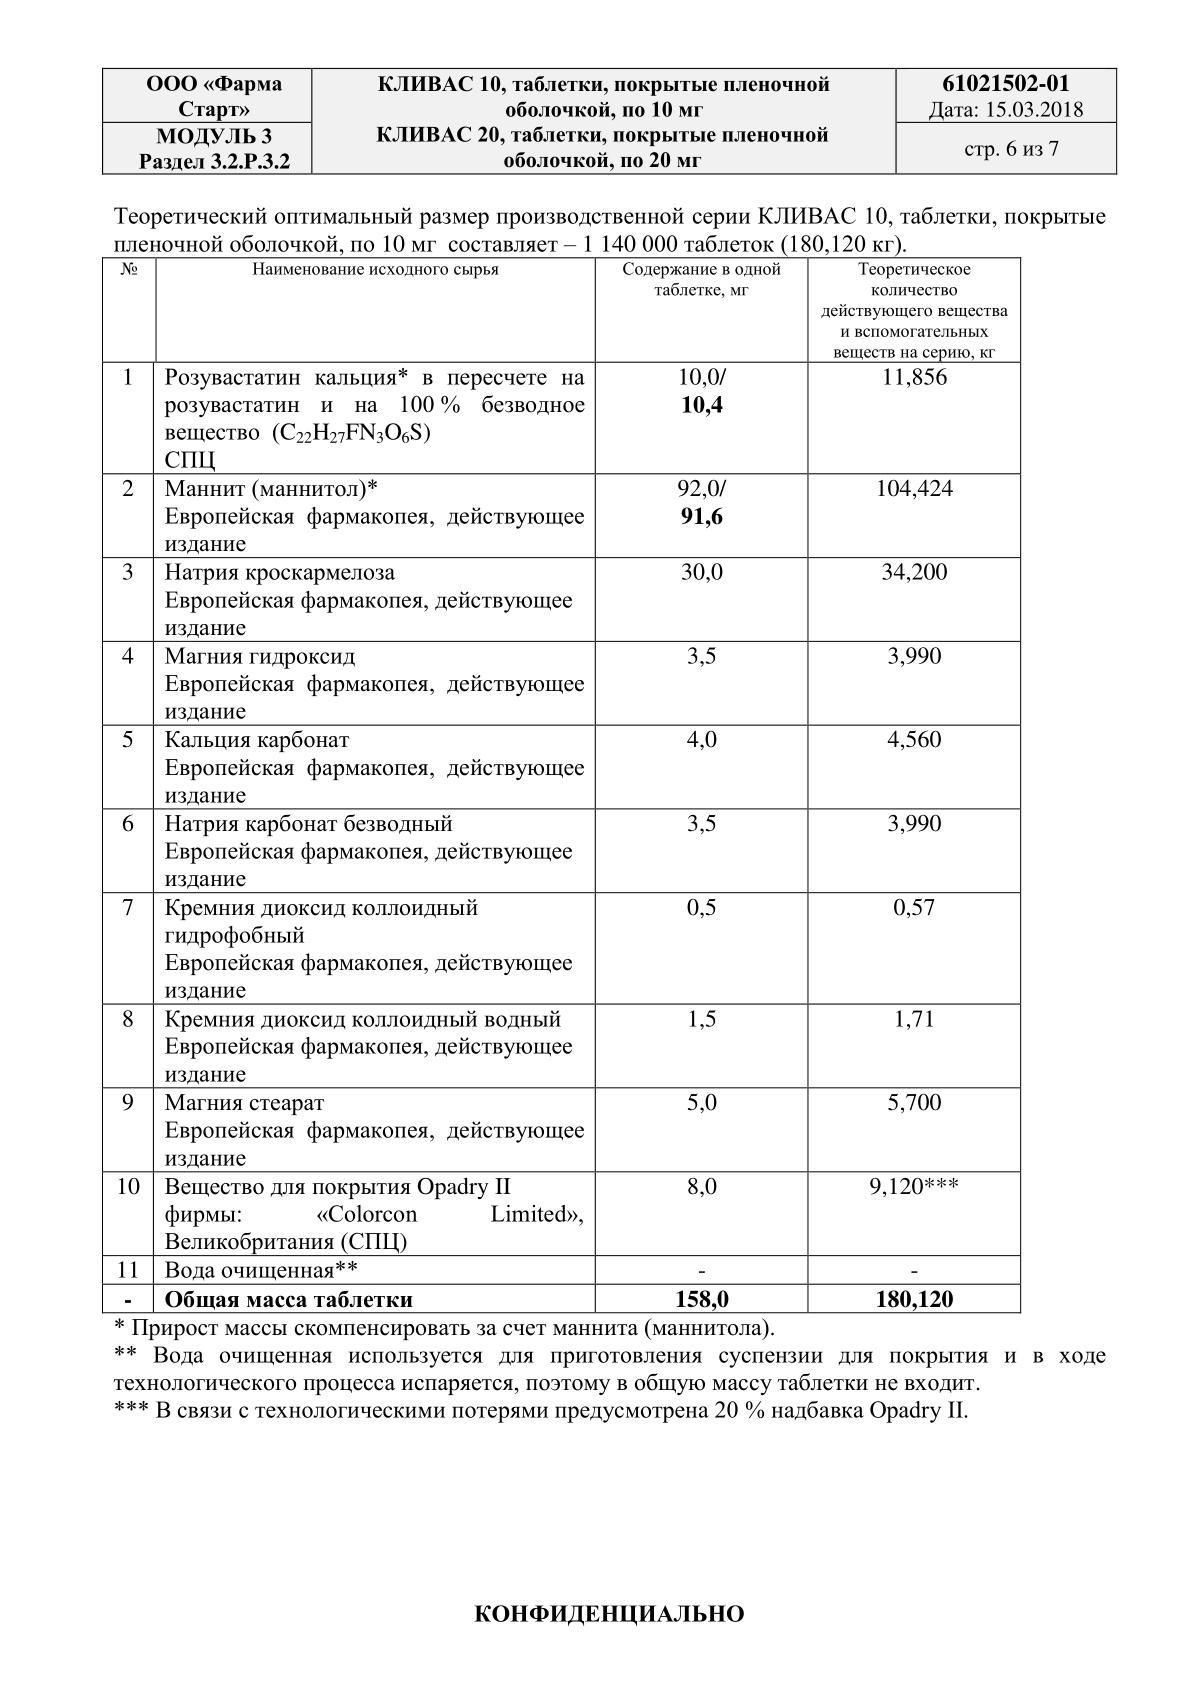full_lined: (101, 255, 1022, 1316)
merged_cells: (102, 67, 1118, 177)
